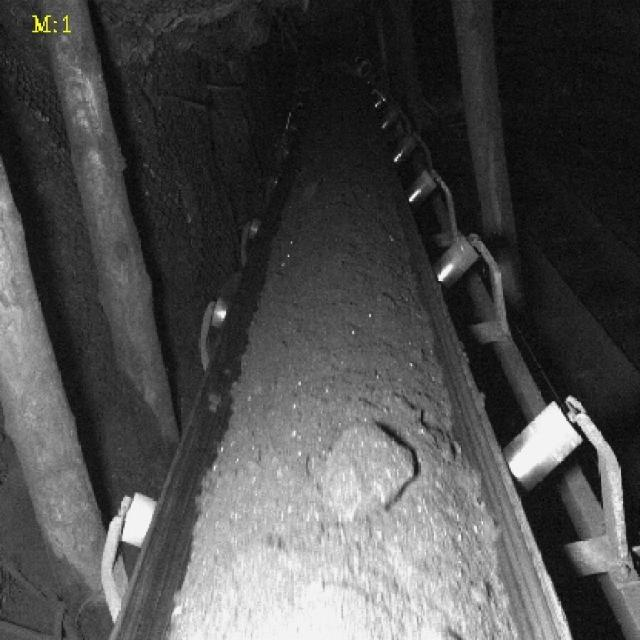large_sized_coal: (320, 423, 417, 522)
